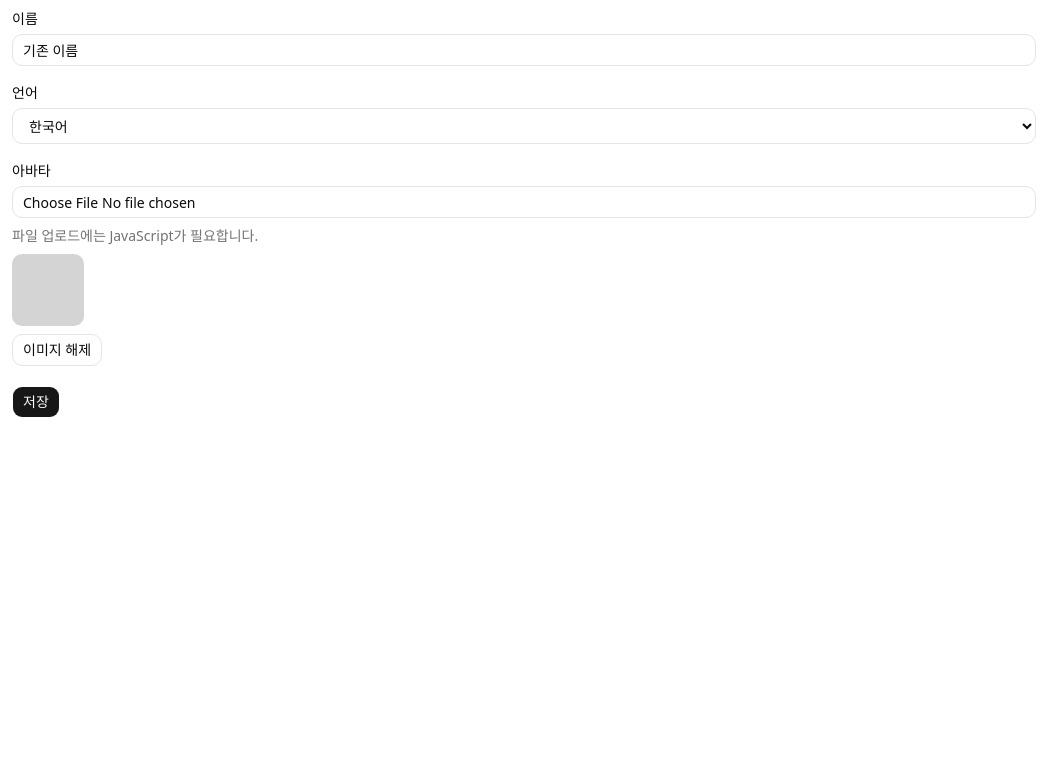
프로필 필드·폼 오류와 재시도 안내를 표시하고 편집 값을 유지한다
Replace the text in the field labelled "이름" with "남길 이름": (524, 50) x1=12 y1=34 x2=1036 y2=66
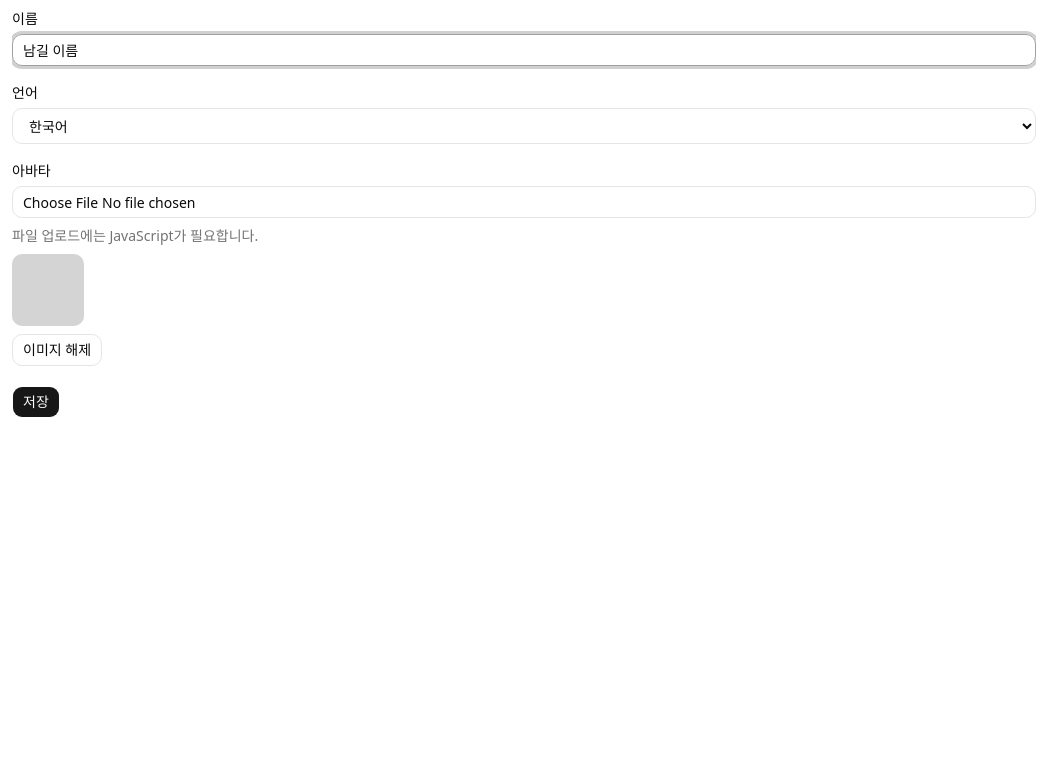
Select "English" in the dropdown labelled "언어": (524, 126) x1=12 y1=108 x2=1036 y2=144
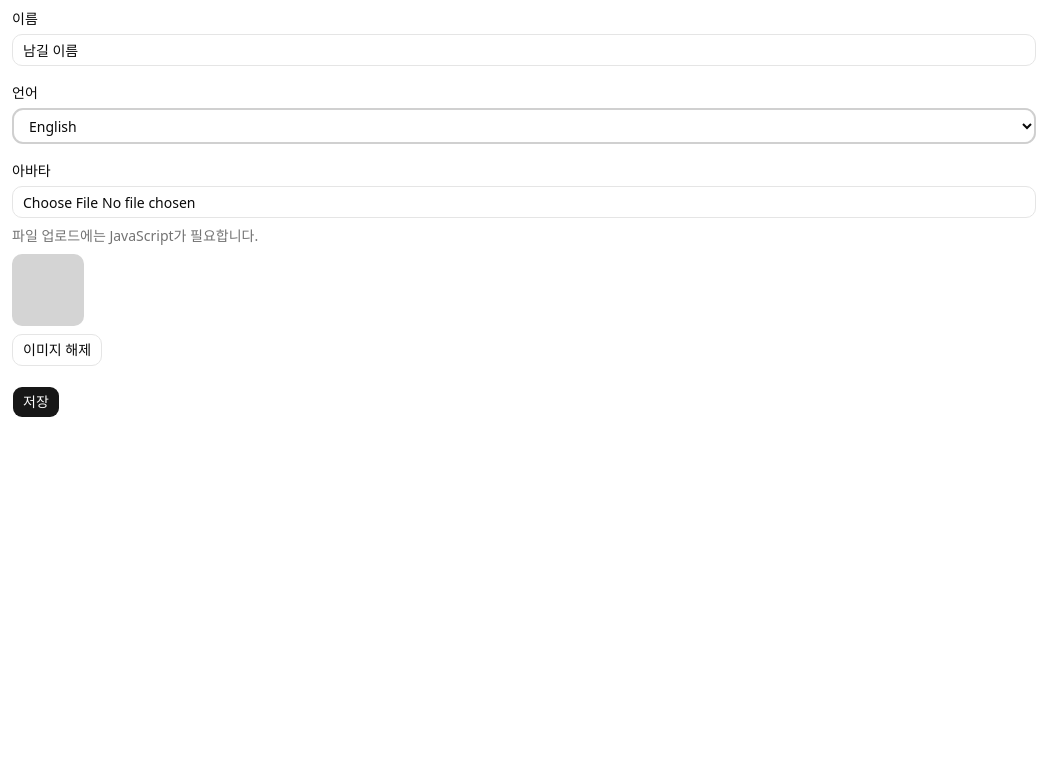
Click the button "저장": click(36, 402) x1=12 y1=386 x2=60 y2=418
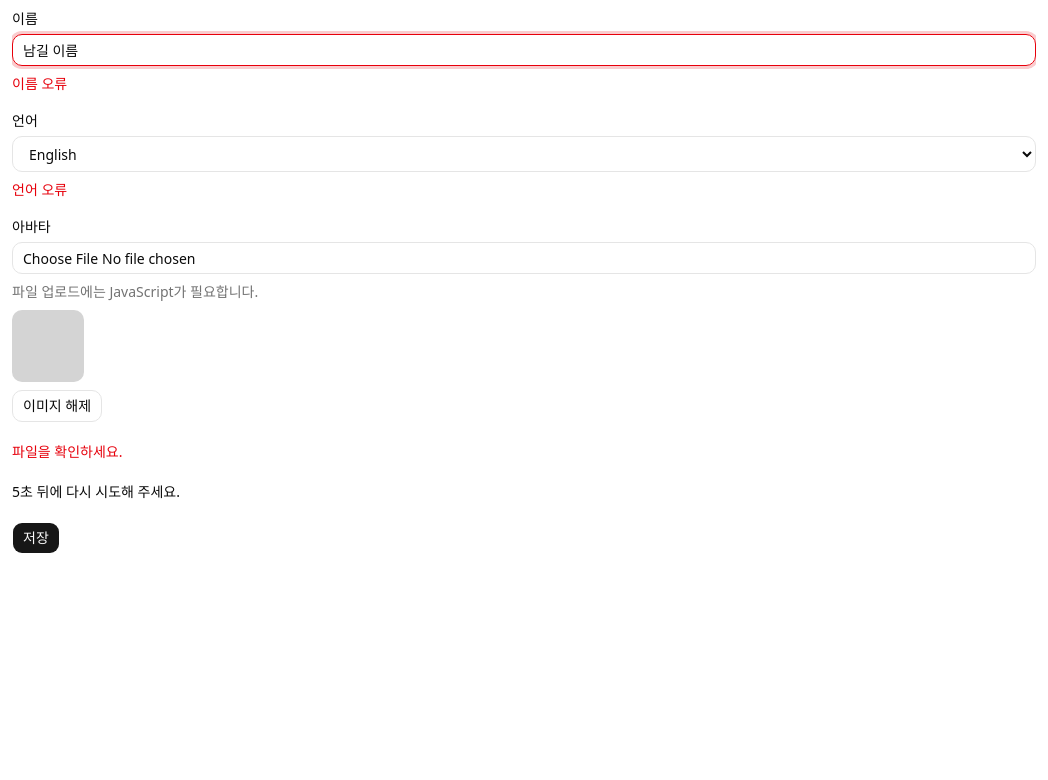
Result: the dropdown labelled "언어" shows "English" at x1=12 y1=136 x2=1036 y2=172
Result: the message reads "파일을 확인하세요." at x1=12 y1=442 x2=122 y2=461
Result: the text "5초 뒤에 다시 시도해 주세요." is shown at x1=12 y1=482 x2=180 y2=501
